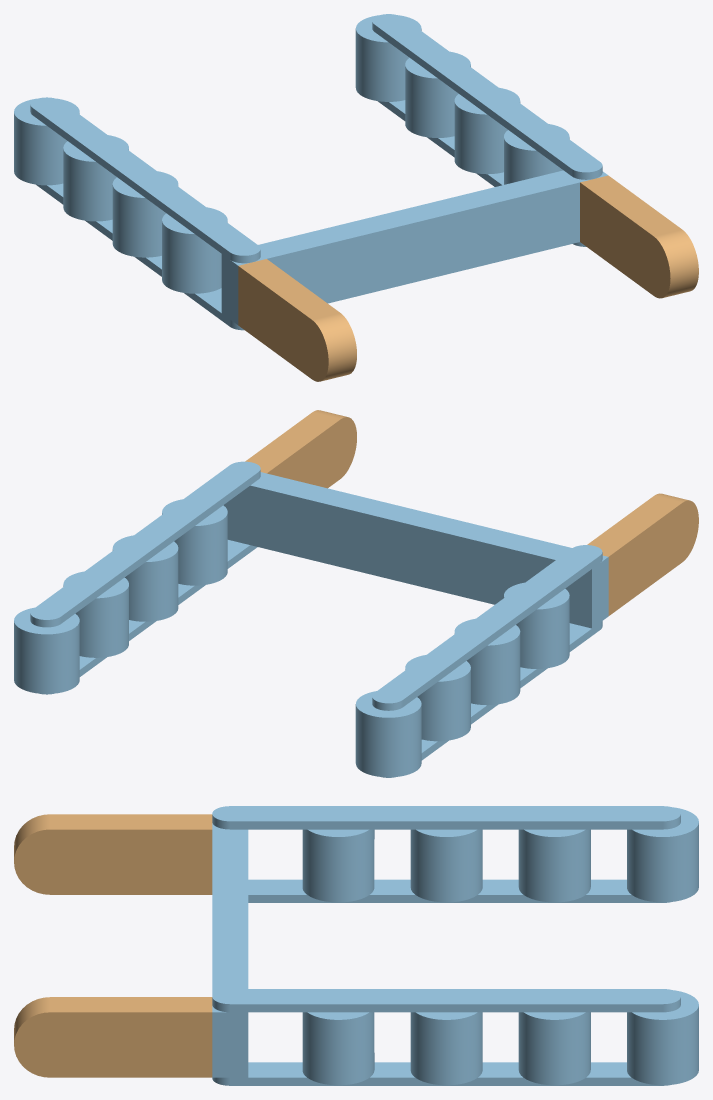
3 renders of one model, top to bottom at view 1: azimuth 30°, elevation 25°; view 2: azimuth 150°, elevation 25°; view 3: azimuth 270°, elevation 25°, orthographic. The views are drawn at different scales.
Visible parts, largest first — view 1: Roller Claw <1>, Arm Segment <1>, Arm Segment <8>; view 2: Roller Claw <1>, Arm Segment <1>, Arm Segment <8>; view 3: Roller Claw <1>, Arm Segment <8>, Arm Segment <1>.
Boxes of the visible parts, x1,y1,x2,y2 form: Roller Claw <1>: [14, 14, 607, 330]; Arm Segment <1>: [238, 259, 356, 381]; Arm Segment <8>: [580, 175, 698, 298]; Roller Claw <1>: [14, 461, 608, 777]; Arm Segment <1>: [587, 493, 698, 615]; Arm Segment <8>: [245, 410, 356, 488]; Roller Claw <1>: [212, 806, 698, 1085]; Arm Segment <8>: [14, 997, 212, 1077]; Arm Segment <1>: [14, 814, 212, 894].
Bounding box in the file's own units: 0.3556 × 0.0635 × 0.4826.
